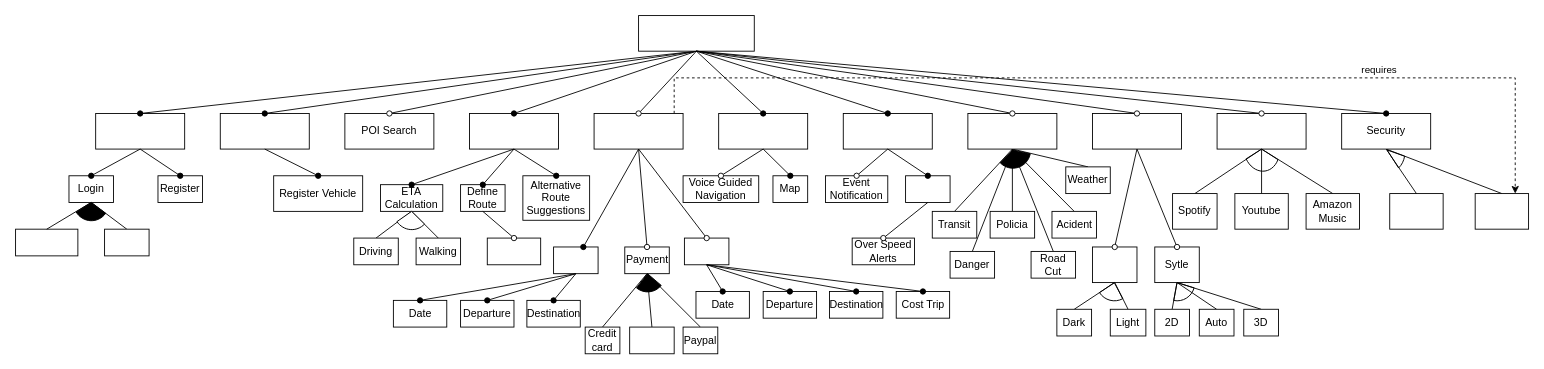
Some shapes in this 1544 by 369 pixel diagram are drawn without their labels. Each missing label, with the box of its shape:
Autentication: (95, 113, 185, 149)
Bank Transfer: (629, 326, 674, 354)
Carpooling: (593, 113, 683, 149)
Color: (1092, 246, 1137, 283)
Email: (104, 228, 149, 256)
High: (1474, 193, 1529, 229)
Incident Reports: (967, 113, 1057, 149)
Map Customization: (1092, 113, 1181, 149)
Multi-Stop Route: (486, 237, 541, 265)
MyWazeProject: (638, 15, 754, 51)
Navigation: (718, 113, 808, 149)
New trip: (684, 237, 729, 265)
Notifications: (842, 113, 932, 149)
Route Managemnet: (469, 113, 558, 149)
Search: (553, 246, 598, 274)
Speed Alerts: (905, 175, 950, 202)
Standard: (1389, 193, 1443, 229)
Third-Party Integration: (1216, 113, 1306, 149)
Username: (15, 228, 78, 256)
Vehicle Services: (219, 113, 309, 149)
